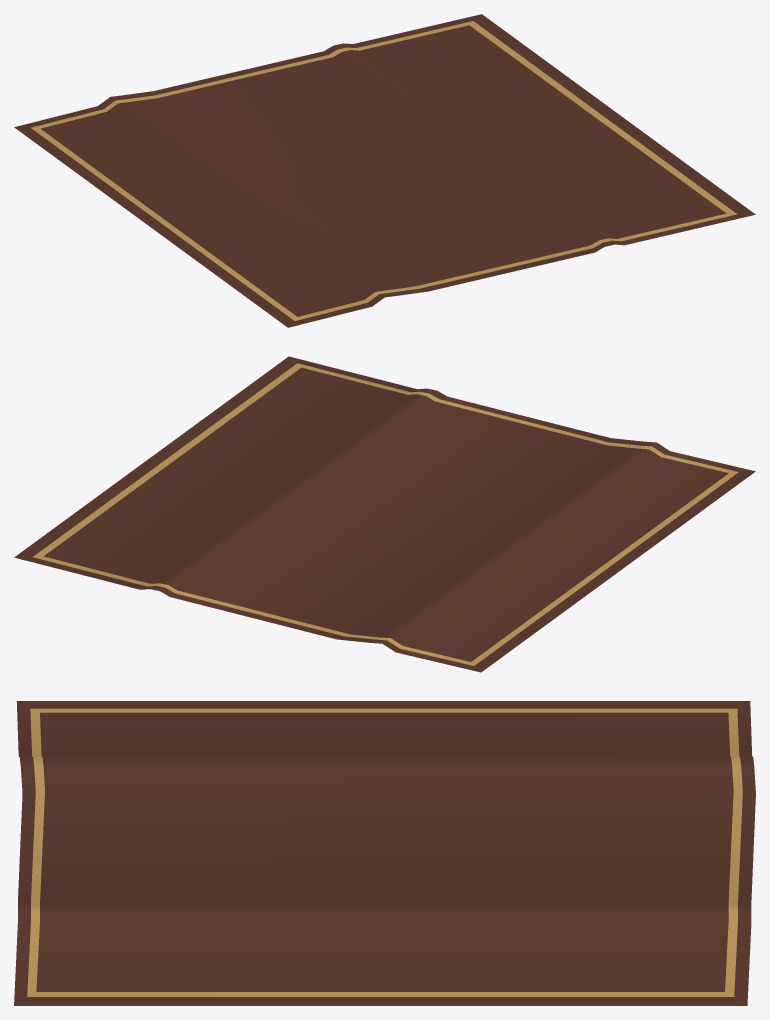
File: carpet.glb
3 views of the same model, one above another, from view 1: azimuth 30°, elevation 25°; view 2: azimuth 150°, elevation 25°; view 3: azimuth 270°, elevation 25° (orthographic). The views are drawn at different scales.
Visible parts, largest first — view 1: Carpet_2; view 2: Carpet_2; view 3: Carpet_2.
Part boxes in pixels (x1,y1,x2,y2): Carpet_2: [14, 14, 755, 327]; Carpet_2: [14, 356, 755, 672]; Carpet_2: [14, 701, 755, 1005].
Size of the model in its own units: 3.09 by 0.0367 by 3.18.
